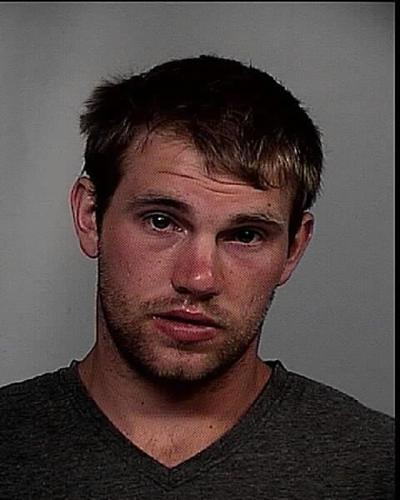Drunk: (108, 147, 283, 379)
